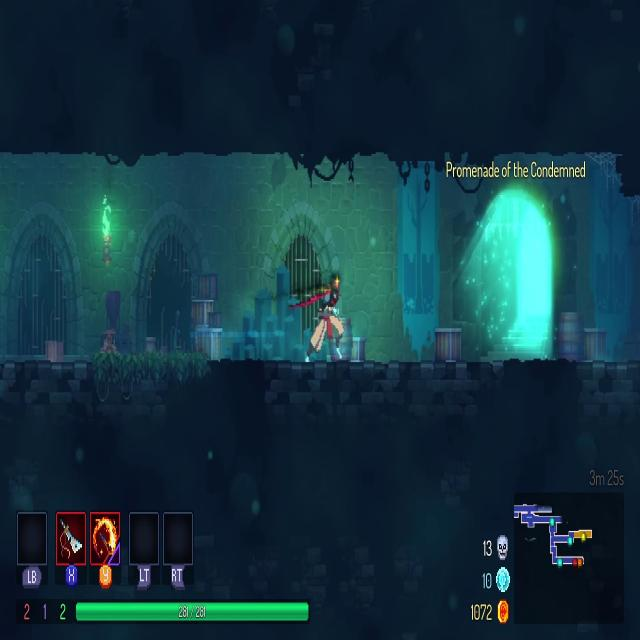agents: (303, 270, 346, 368)
door_nextLevel: (432, 150, 596, 356)
